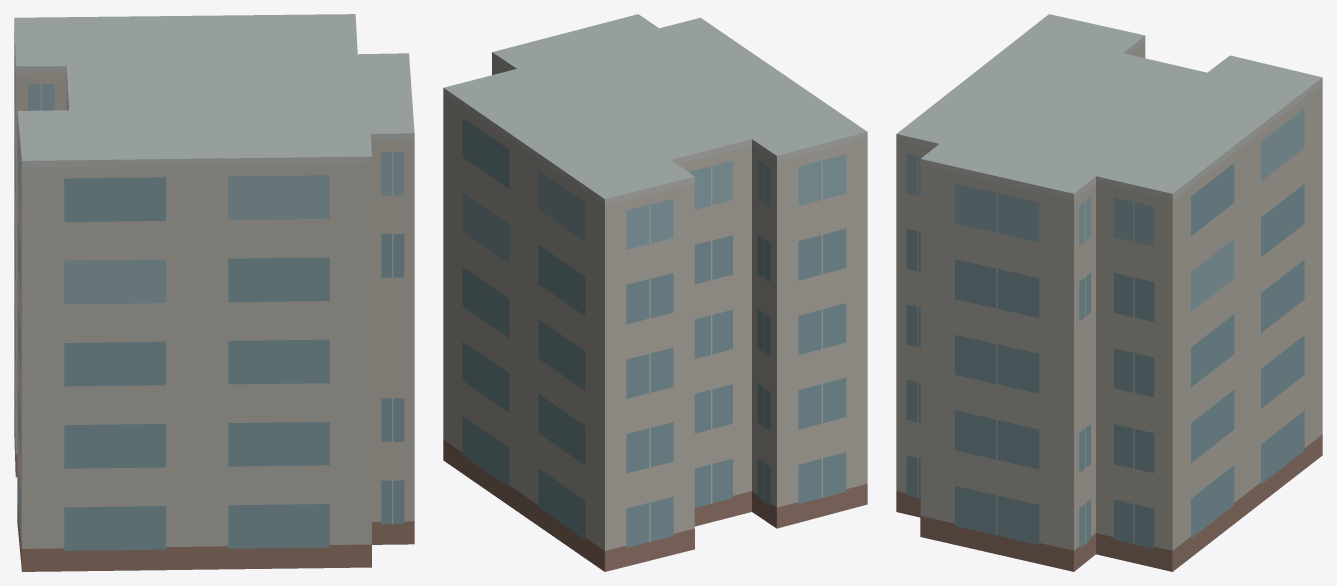
File: survey-upis-32872020.glb
The picture shows the model from 3 angles, left to right: view 1: azimuth 30°, elevation 25°; view 2: azimuth 150°, elevation 25°; view 3: azimuth 270°, elevation 25°; orthographic projection. The views are drawn at different scales.
Parts seen in each view (by area): view 1: survey-upis-32872020.tmp; view 2: survey-upis-32872020.tmp; view 3: survey-upis-32872020.tmp.
Part boxes in pixels (box(x1,y1,x2,y2)): survey-upis-32872020.tmp: box(14, 14, 414, 571); survey-upis-32872020.tmp: box(443, 14, 867, 571); survey-upis-32872020.tmp: box(896, 14, 1322, 571).
Size of the model in its own units: 14.9 by 14.6 by 14.92.
